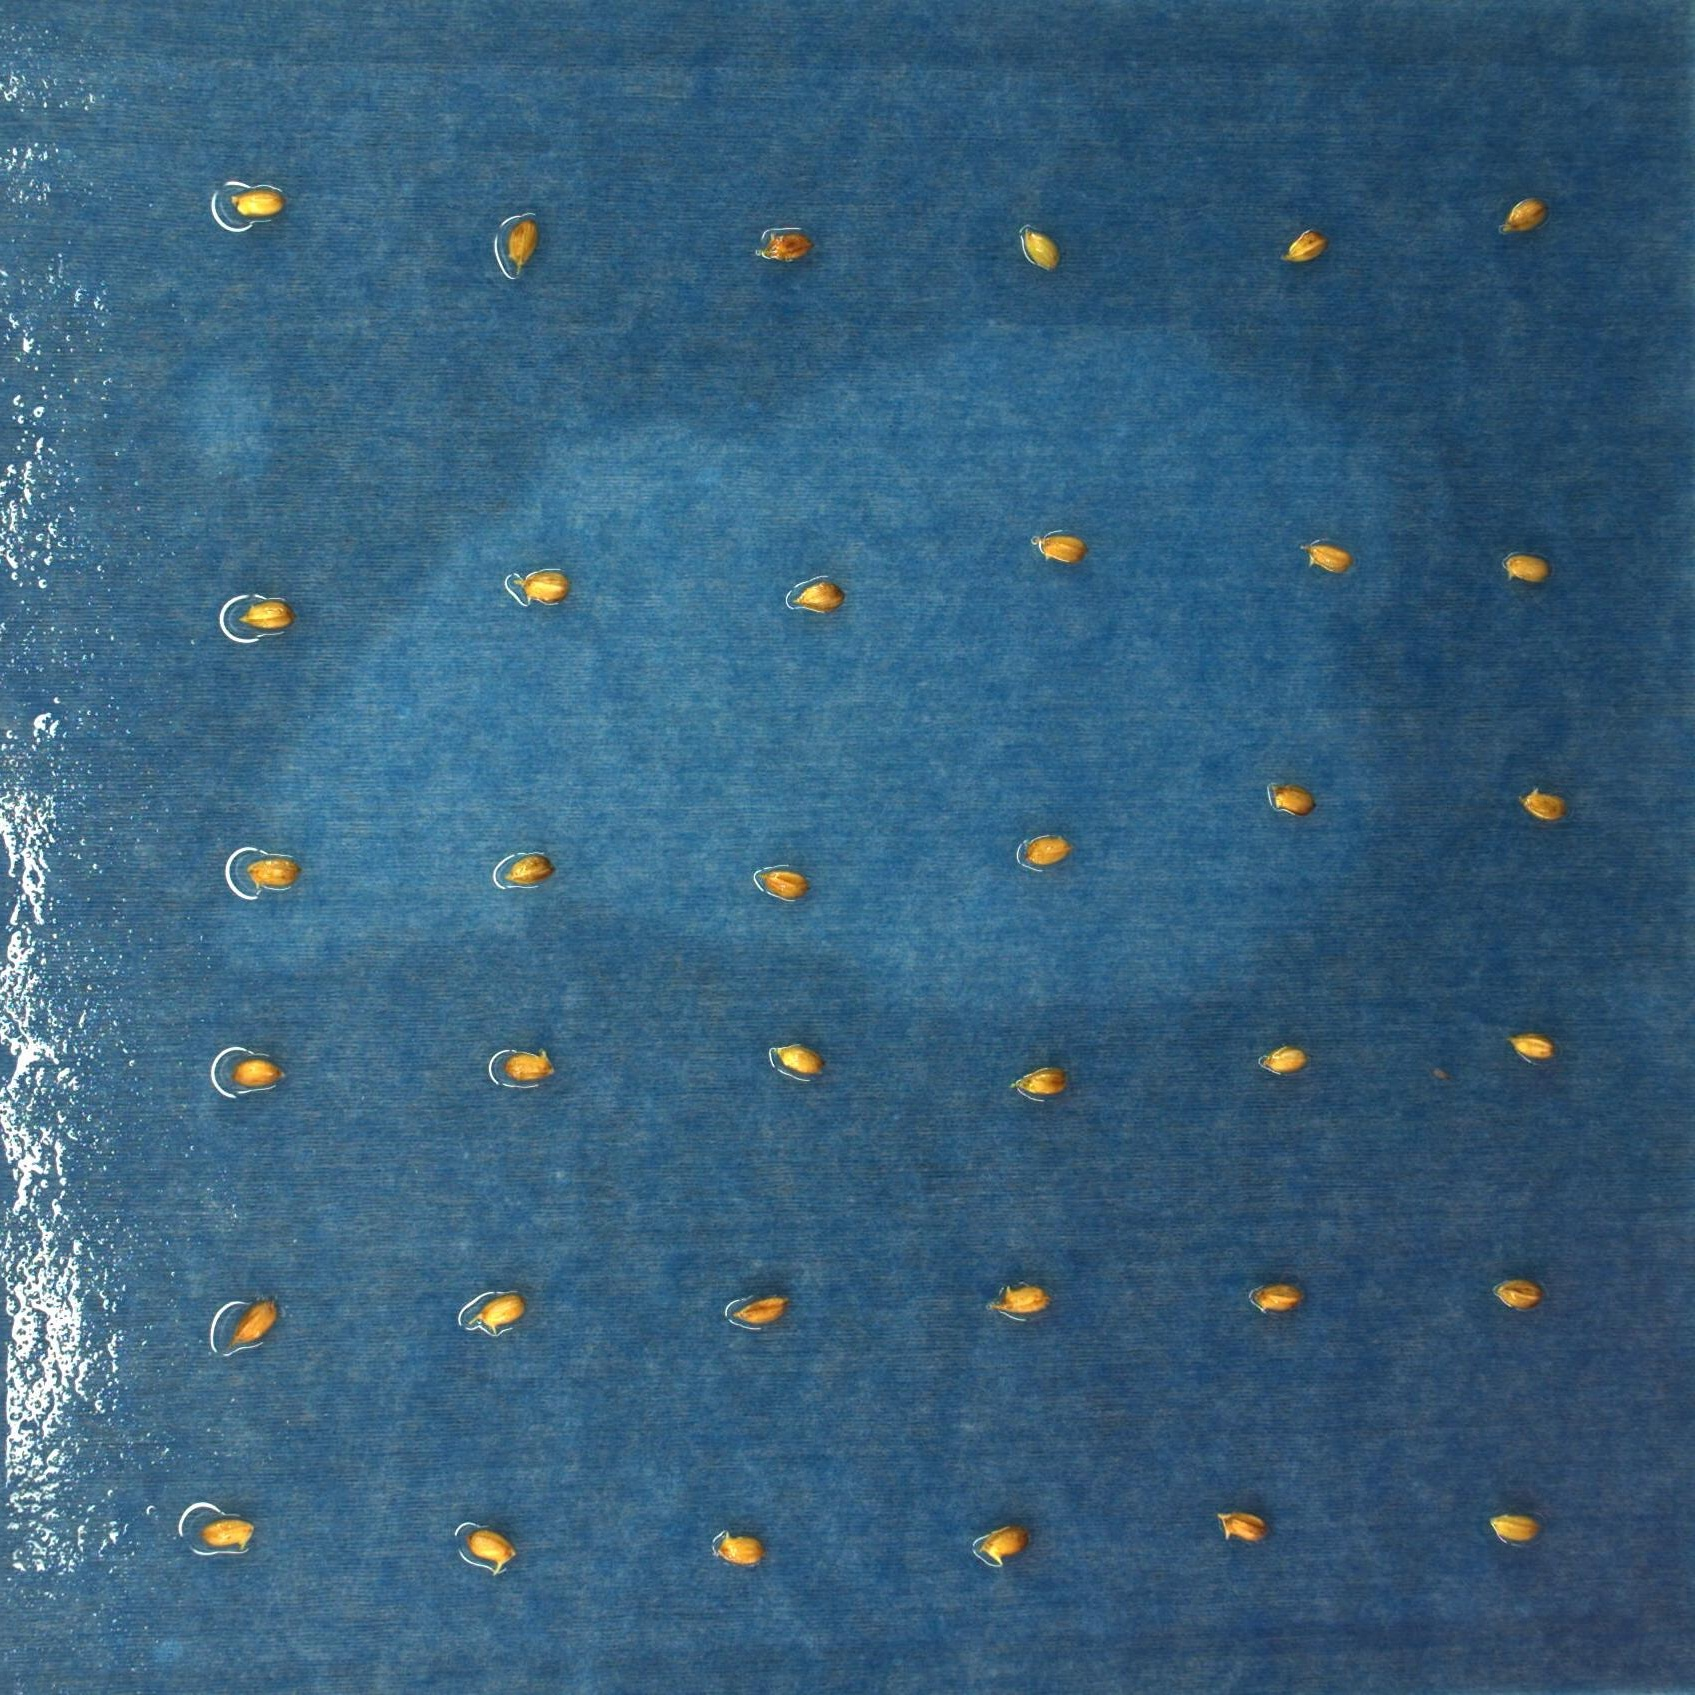not sprout: (224, 1293, 279, 1357), (976, 1524, 1029, 1572), (464, 1530, 515, 1577), (469, 1291, 525, 1333), (514, 568, 574, 605), (990, 1281, 1049, 1316), (717, 1527, 767, 1569), (1007, 1065, 1071, 1097), (754, 231, 815, 262), (733, 1295, 793, 1326), (248, 857, 303, 891), (237, 598, 296, 629), (230, 186, 286, 219), (1023, 227, 1063, 272), (1493, 1277, 1546, 1312), (1501, 197, 1551, 233), (1037, 531, 1091, 563), (793, 581, 844, 615), (1254, 1281, 1305, 1315), (508, 219, 539, 275), (200, 1516, 256, 1548), (233, 1057, 286, 1090), (504, 1048, 557, 1080), (1493, 1510, 1543, 1544), (1301, 542, 1355, 573), (1277, 231, 1329, 264), (1024, 835, 1076, 868), (775, 1045, 826, 1077), (1270, 781, 1316, 816), (1520, 785, 1568, 820), (504, 854, 554, 886), (1217, 1513, 1271, 1543), (761, 869, 810, 900), (1507, 1031, 1558, 1060), (1506, 553, 1554, 584), (1262, 1043, 1312, 1071)
